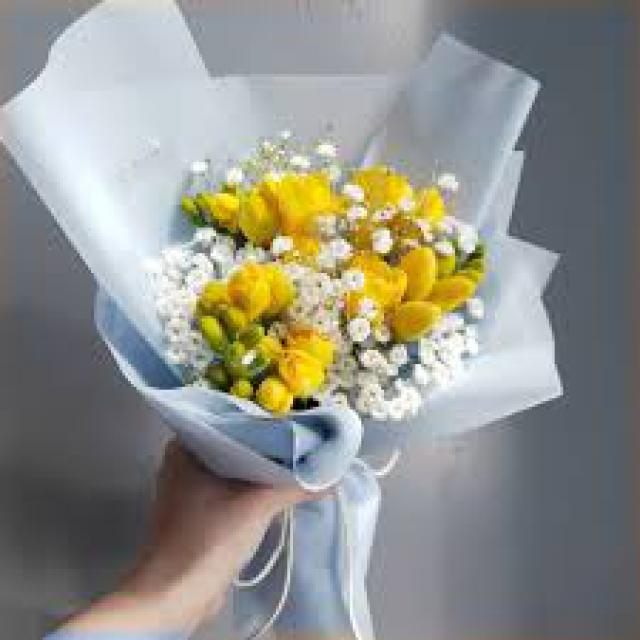freesia: (340, 333, 472, 413), (348, 252, 455, 328), (208, 265, 282, 329), (266, 171, 334, 235), (258, 329, 322, 393)
gypsophila: (148, 239, 204, 361), (282, 242, 348, 324)
